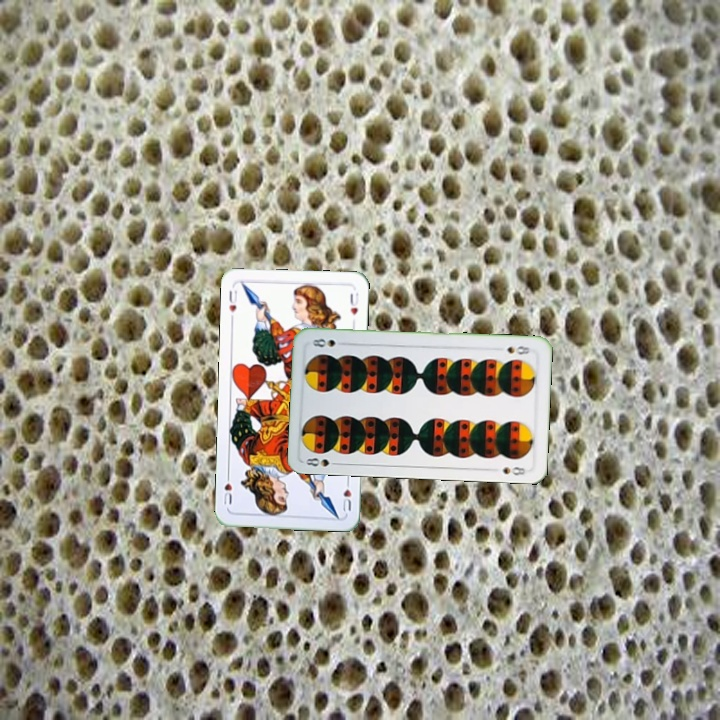HU: (339, 475, 354, 514), (225, 287, 239, 314)
S8: (302, 454, 342, 469), (503, 342, 533, 357)
